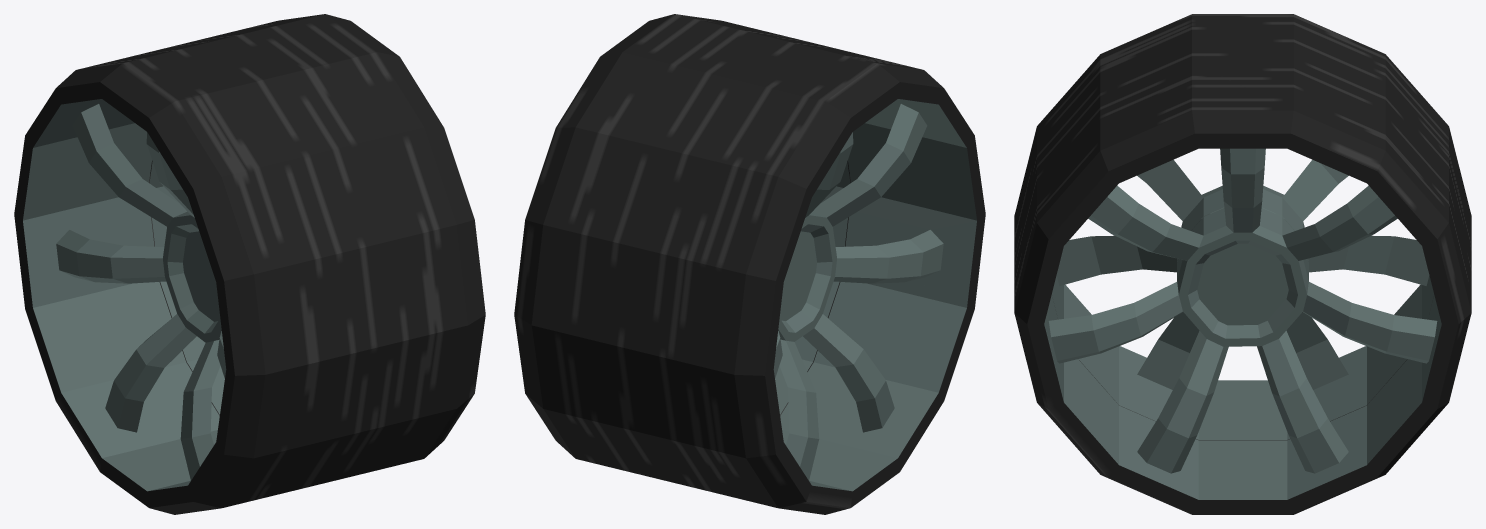
Rendered from Drift Wheel.fbx.
The picture shows the model from 3 angles, left to right: view 1: azimuth 30°, elevation 25°; view 2: azimuth 150°, elevation 25°; view 3: azimuth 270°, elevation 25°; orthographic projection. The views are drawn at different scales.
Parts seen in each view (by area): view 1: Drift tire; view 2: Drift tire; view 3: Drift tire.
Boxes of the visible parts, x1=… form: Drift tire: x1=14, y1=14, x2=485, y2=514; Drift tire: x1=514, y1=14, x2=985, y2=514; Drift tire: x1=1014, y1=14, x2=1471, y2=514.
Bounding box in the file's own units: 0.5447 × 0.8579 × 0.88.
